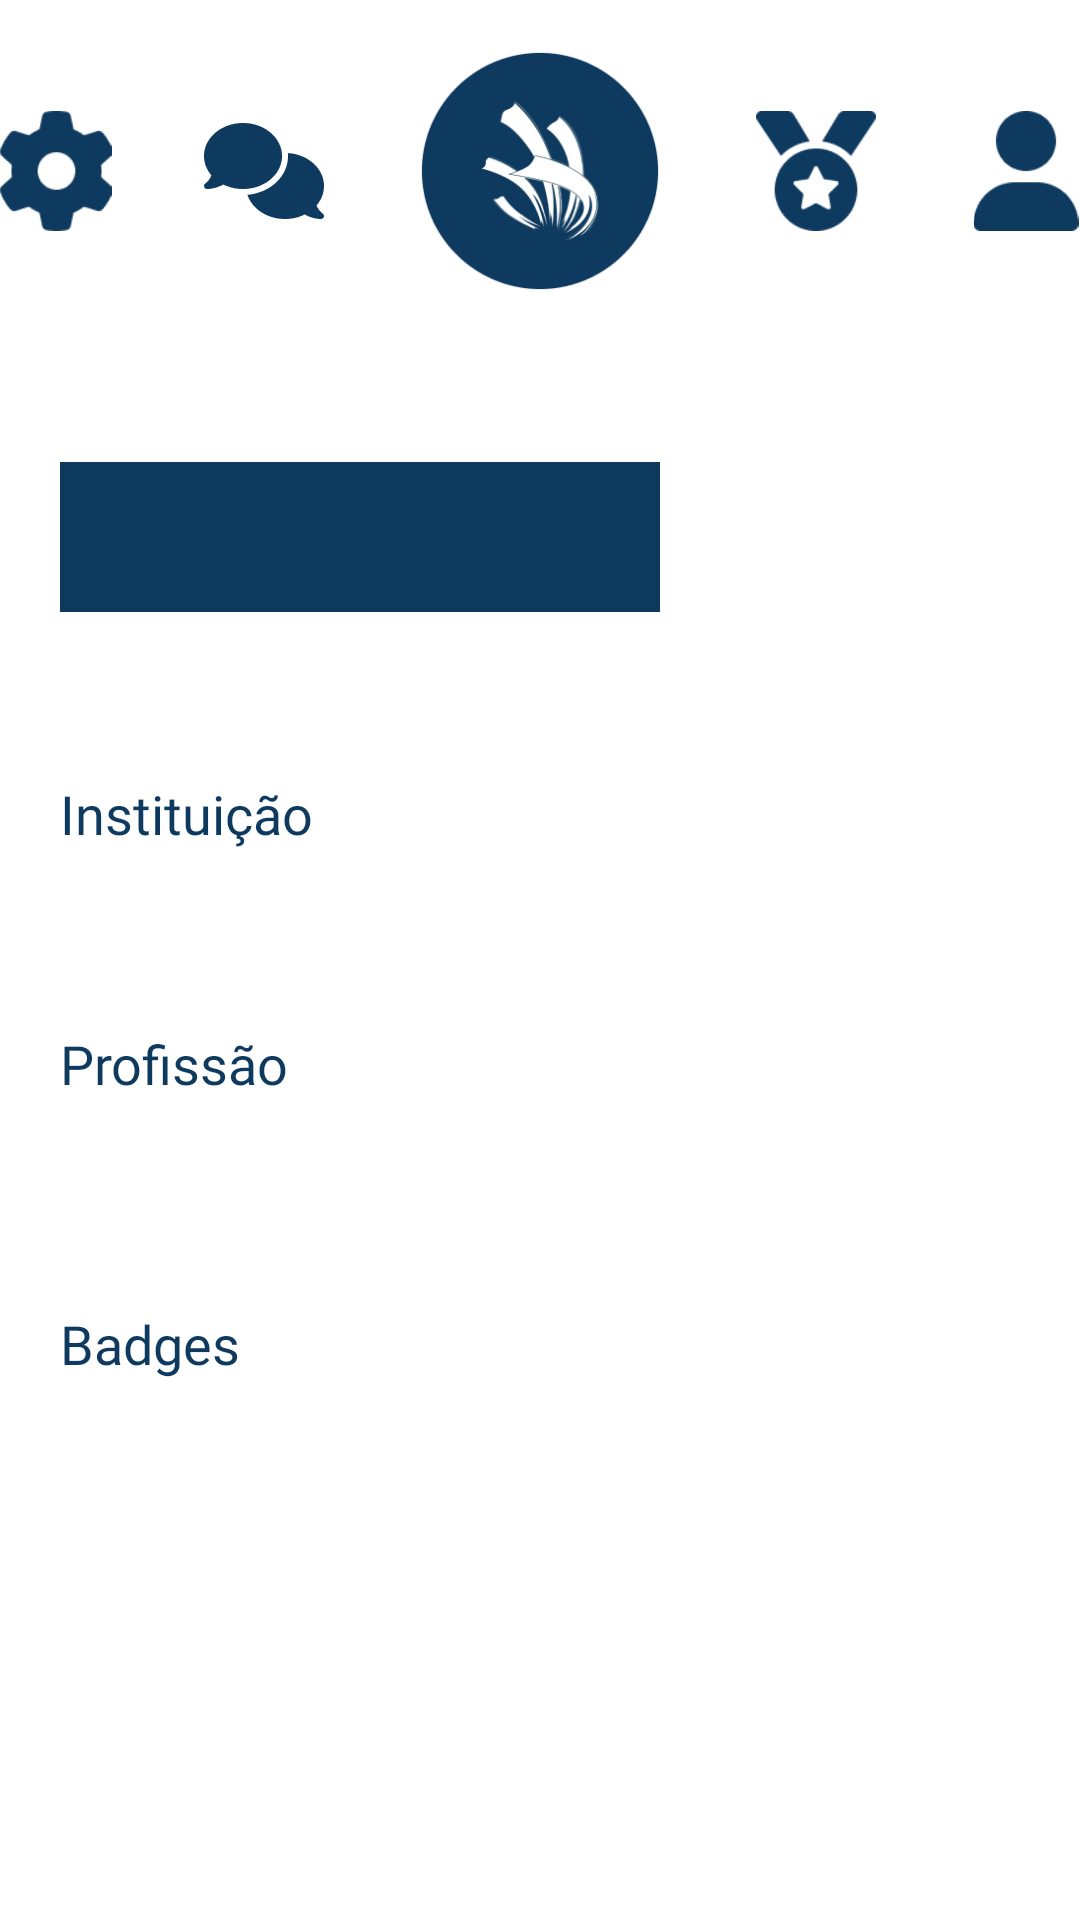

Icon bounding boxes for this 1080 × 1920 phone screenshot, format (x1, y1, x2, y2):
badges: (756, 111, 876, 231)
chat: (204, 123, 324, 219)
settings: (0, 111, 112, 231)
user: (974, 111, 1079, 231)
